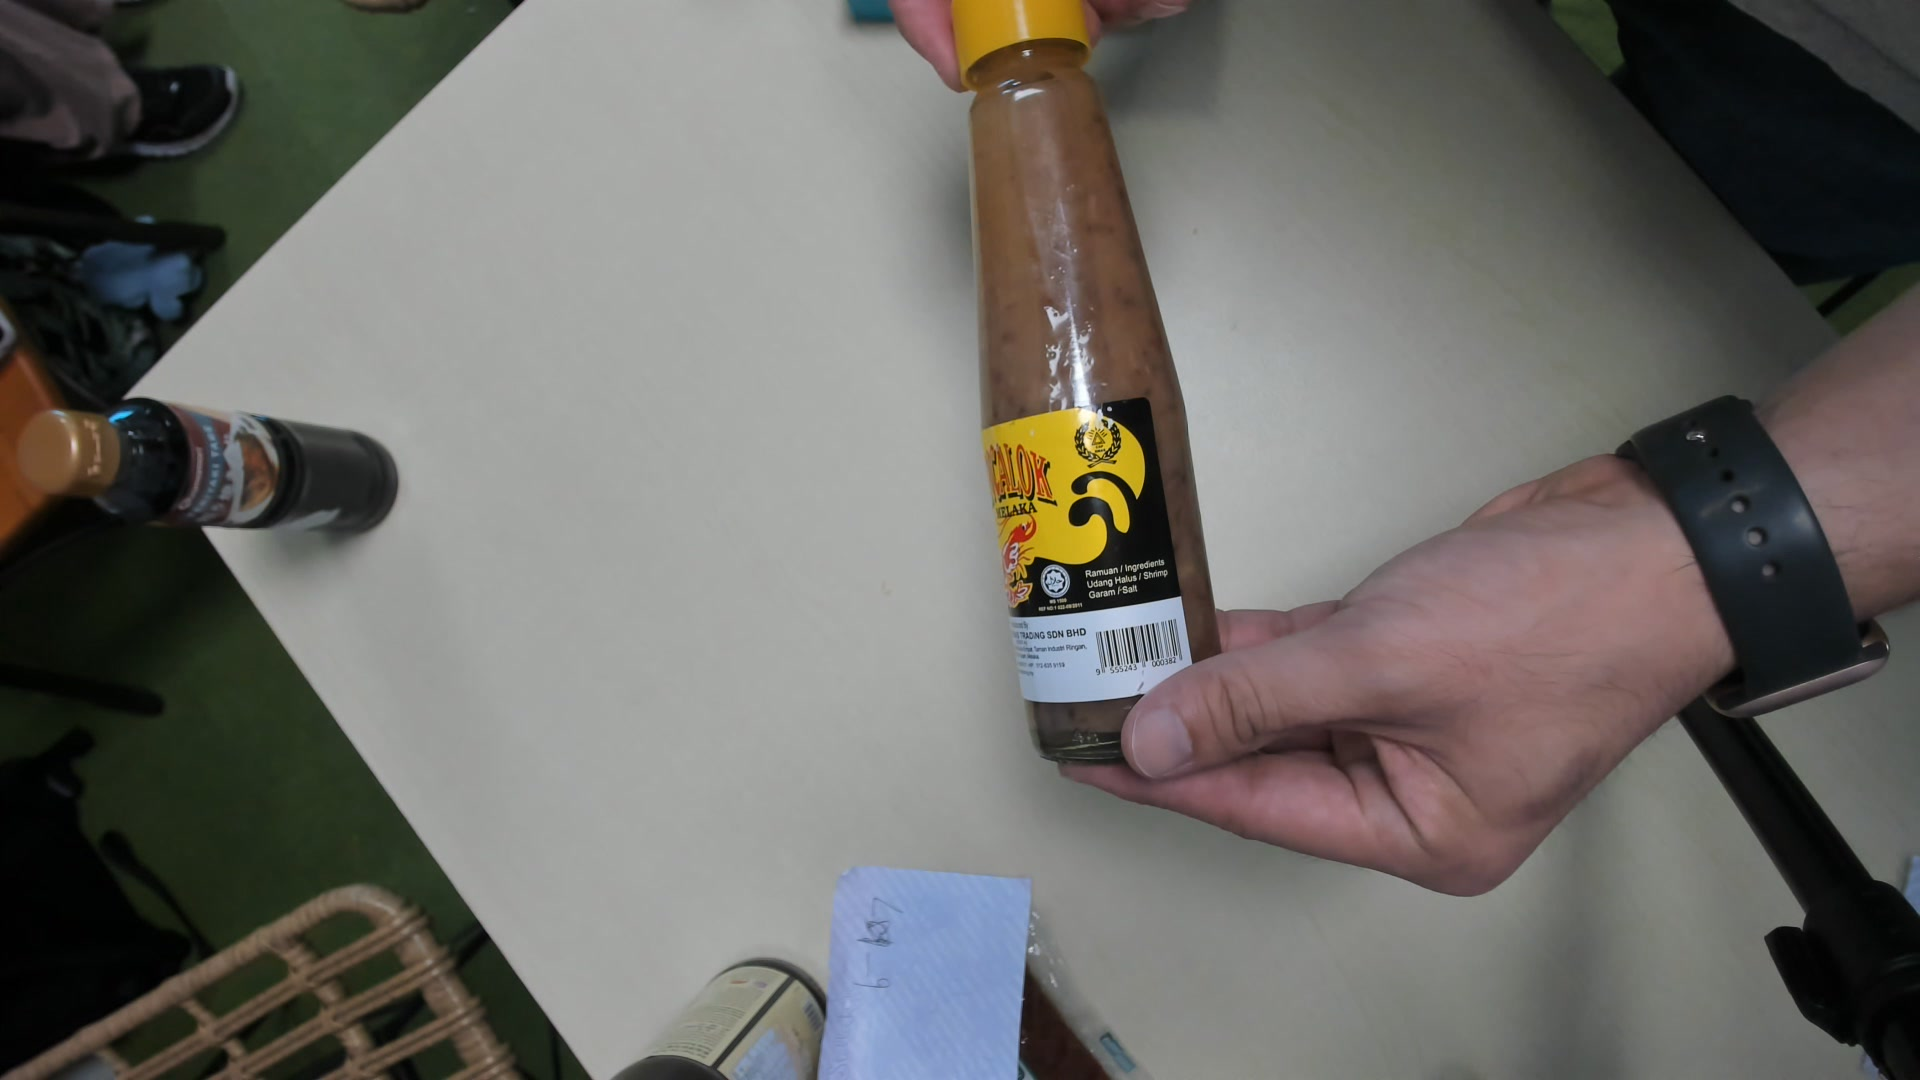OtherSauceDressingSoupbasePaste_200-299g_Halal_NonHealthy: (953, 3, 1226, 764)
